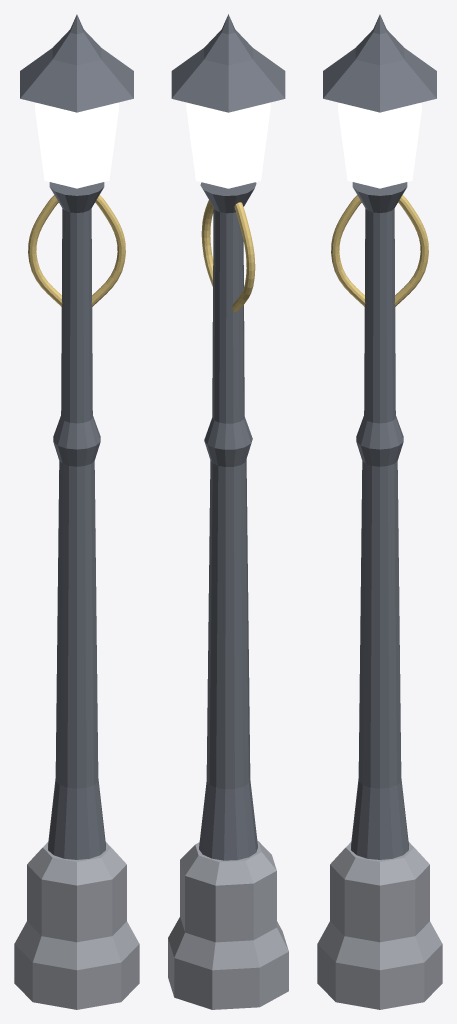
Rendered from SM_StreetLantern.fbx.
3 renders of one model, left to right at view 1: azimuth 90°, elevation 25°; view 2: azimuth 210°, elevation 25°; view 3: azimuth 270°, elevation 25°, orthographic.
Visible parts, largest first — view 1: StreetPost, StreetBase, StreetCap, StreetLantern.001, ScrollL, ScrollR; view 2: StreetPost, StreetBase, StreetCap, StreetLantern.001, ScrollR, ScrollL; view 3: StreetPost, StreetBase, StreetCap, StreetLantern.001, ScrollL, ScrollR.
Part boxes in pixels (bbox=[...]): StreetPost: bbox=[48, 182, 105, 859]; StreetBase: bbox=[14, 842, 139, 1009]; StreetCap: bbox=[20, 14, 133, 112]; StreetLantern.001: bbox=[35, 102, 118, 188]; ScrollL: bbox=[91, 195, 125, 306]; ScrollR: bbox=[28, 195, 62, 306]; StreetPost: bbox=[199, 182, 257, 860]; StreetBase: bbox=[168, 840, 288, 1009]; StreetCap: bbox=[171, 14, 285, 112]; StreetLantern.001: bbox=[186, 102, 270, 188]; ScrollR: bbox=[232, 202, 255, 312]; ScrollL: bbox=[201, 200, 213, 286]; StreetPost: bbox=[351, 182, 408, 859]; StreetBase: bbox=[317, 842, 442, 1009]; StreetCap: bbox=[323, 14, 436, 112]; StreetLantern.001: bbox=[338, 102, 421, 188]; ScrollL: bbox=[331, 195, 365, 306]; ScrollR: bbox=[394, 195, 428, 306].
Size of the model in its own units: 0.42 by 3.42 by 0.4.
